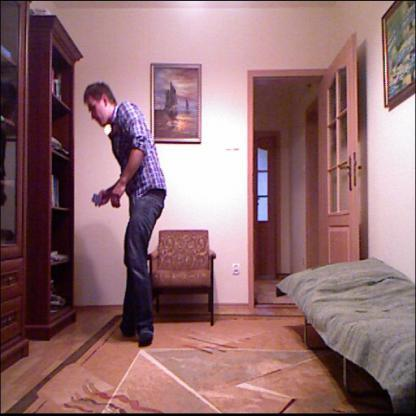normal: (86, 75, 166, 346)
